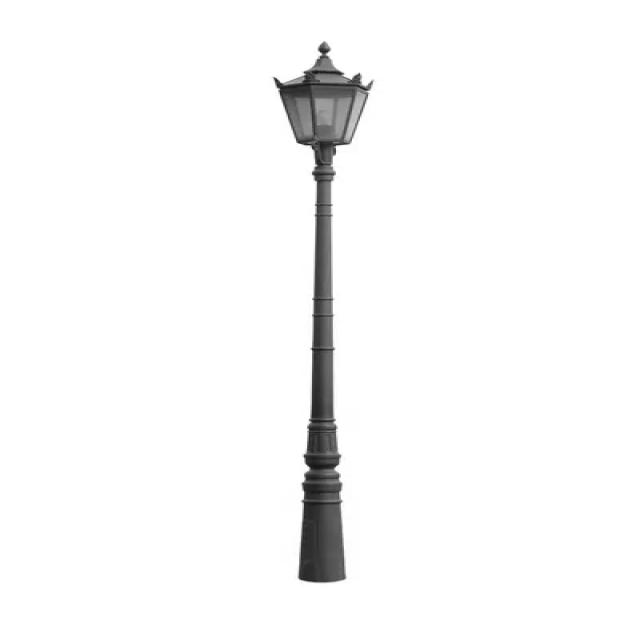Pole: (274, 41, 372, 584)
